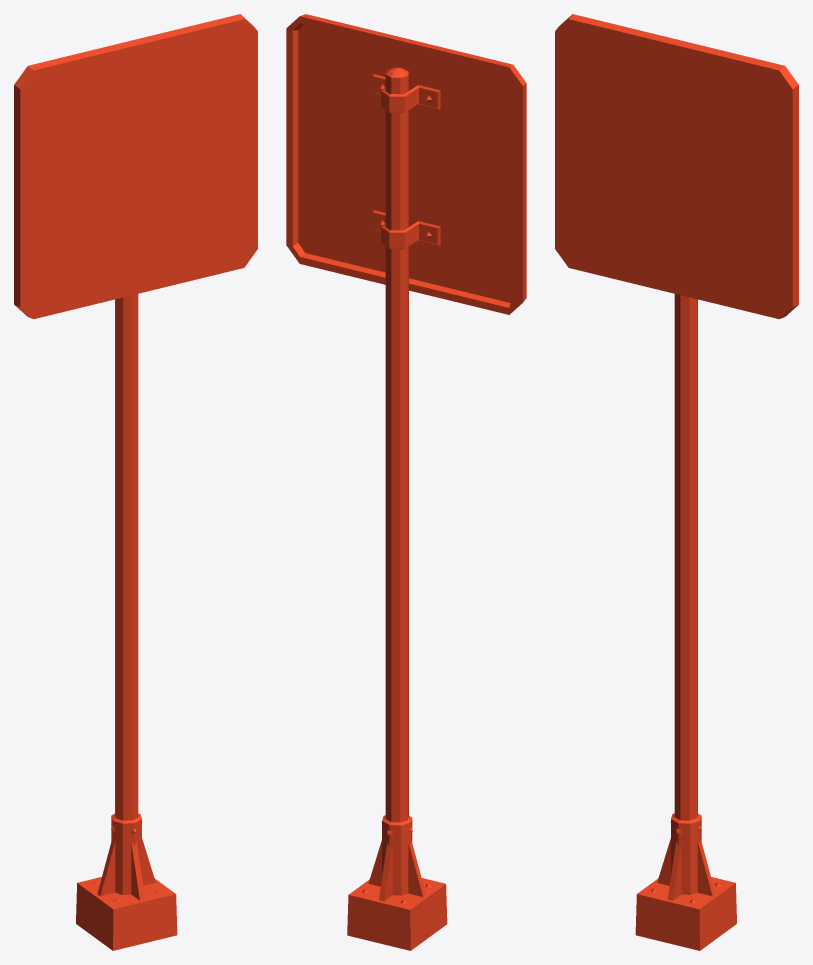
Rendered from SM_Sign_No_Trucks_B_City.fbx.
3 renders of one model, left to right at view 1: azimuth 30°, elevation 25°; view 2: azimuth 150°, elevation 25°; view 3: azimuth 330°, elevation 25°, orthographic.
Visible parts, largest first — view 1: SM_Sign_No_Trucks_B_City; view 2: SM_Sign_No_Trucks_B_City; view 3: SM_Sign_No_Trucks_B_City.
Part boxes in pixels (bbox=[...]): SM_Sign_No_Trucks_B_City: bbox=[14, 14, 257, 950]; SM_Sign_No_Trucks_B_City: bbox=[286, 14, 526, 950]; SM_Sign_No_Trucks_B_City: bbox=[555, 14, 798, 950].
Size of the model in its own units: 0.6854 by 2.44 by 0.1839.
